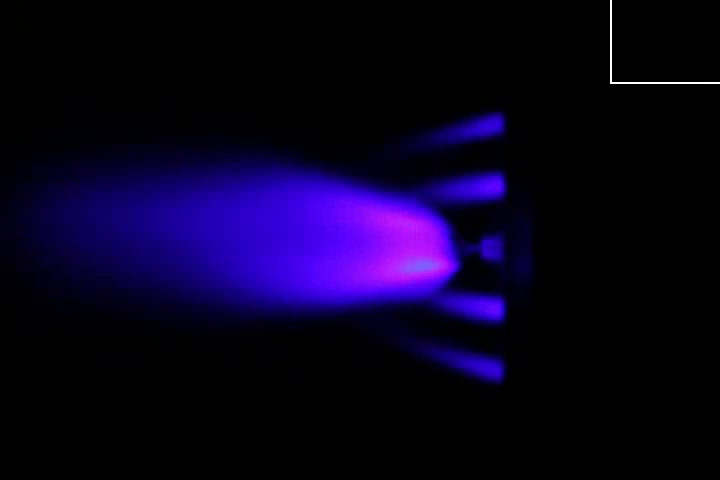burner cap: (476, 234, 507, 265)
pilot flame: (400, 340, 502, 382), (399, 167, 507, 205), (394, 113, 506, 147), (419, 290, 511, 323)
unstable: (333, 181, 481, 304)
